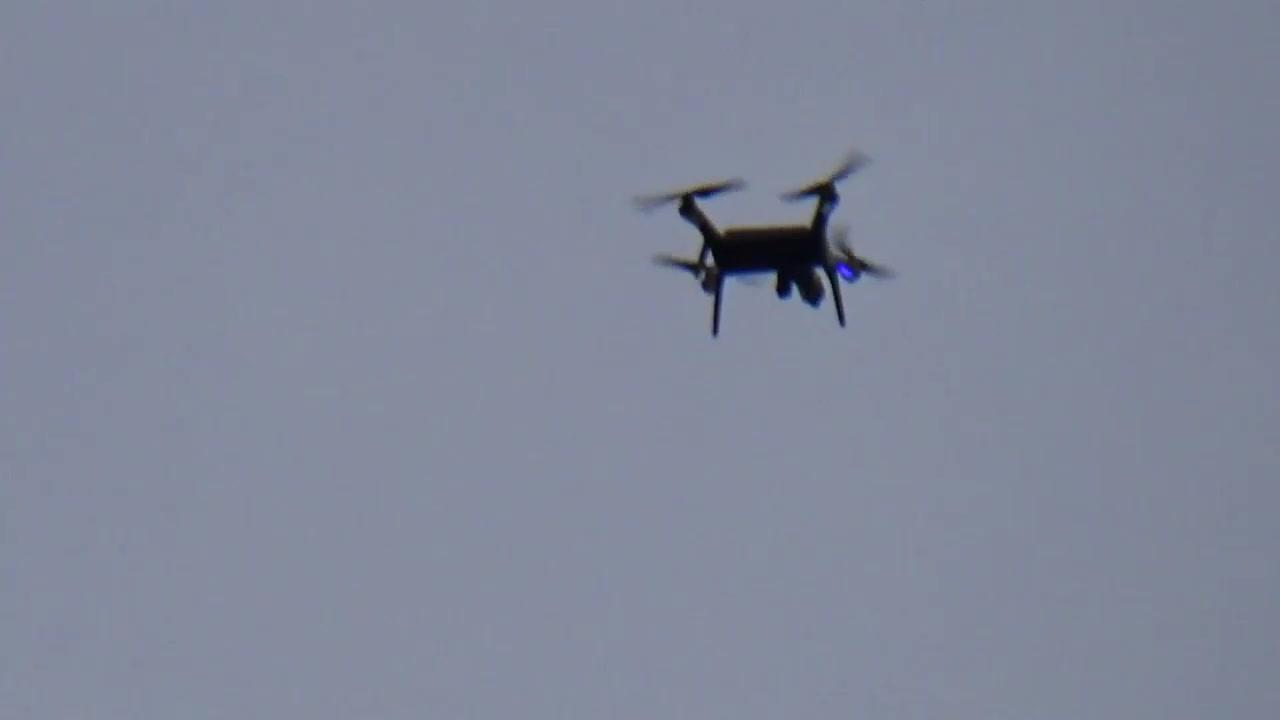UAV: (633, 152, 898, 341)
